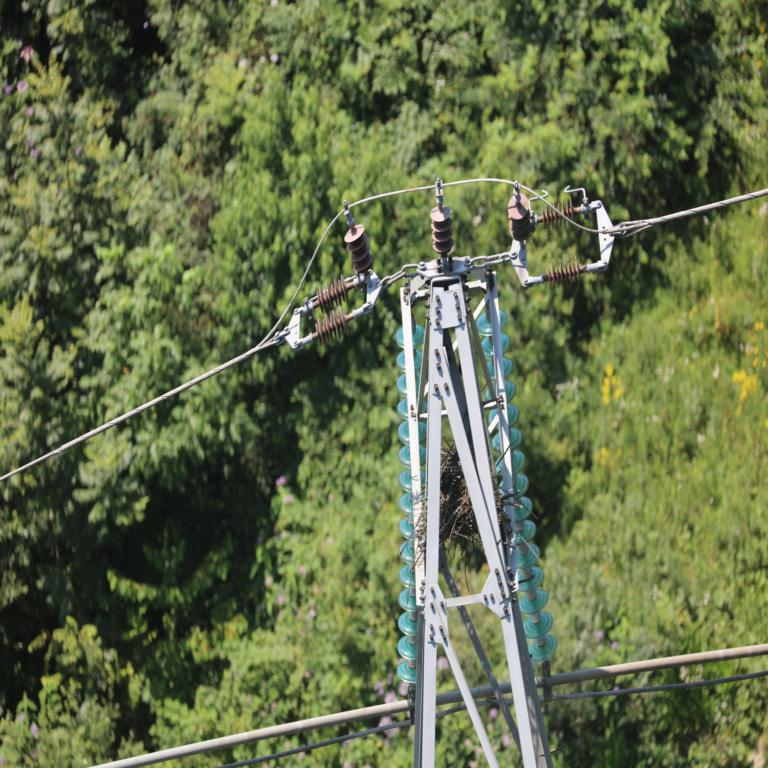nest: (424, 454, 519, 566)
